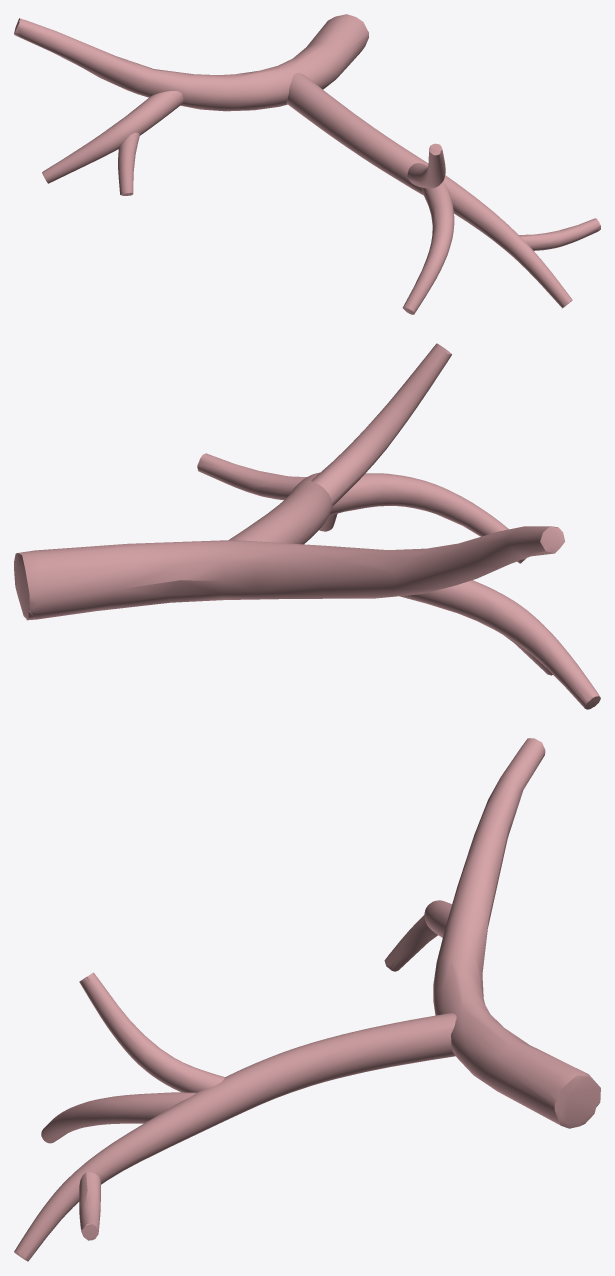
Rendered from fma68212_cx152.glb.
The picture shows the model from 3 angles, top to bottom: view 1: azimuth 30°, elevation 25°; view 2: azimuth 150°, elevation 25°; view 3: azimuth 270°, elevation 25°; orthographic projection. The views are drawn at different scales.
Visible parts, largest first — view 1: FMA68212_CX152; view 2: FMA68212_CX152; view 3: FMA68212_CX152.
Part boxes in pixels (<box>): FMA68212_CX152: <box>14,14,600,314</box>; FMA68212_CX152: <box>14,343,600,709</box>; FMA68212_CX152: <box>14,738,600,1261</box>.
Bounding box in the file's own units: 0.0712 × 0.0378 × 0.0668.
